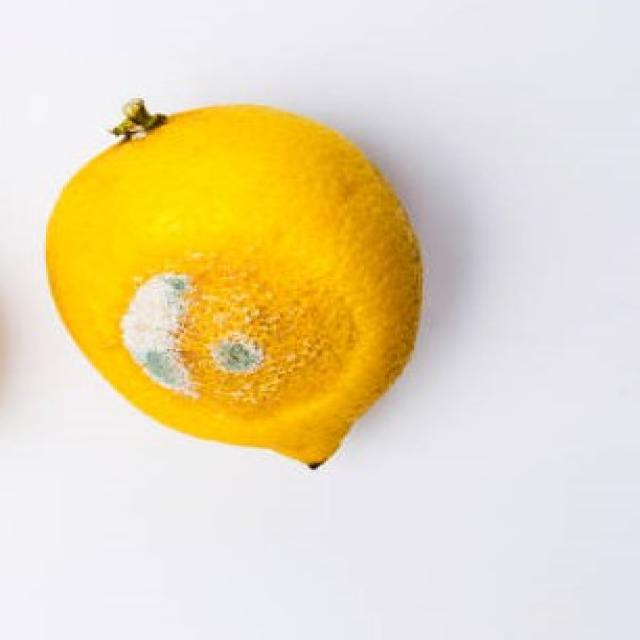overripe: (39, 90, 428, 473)
